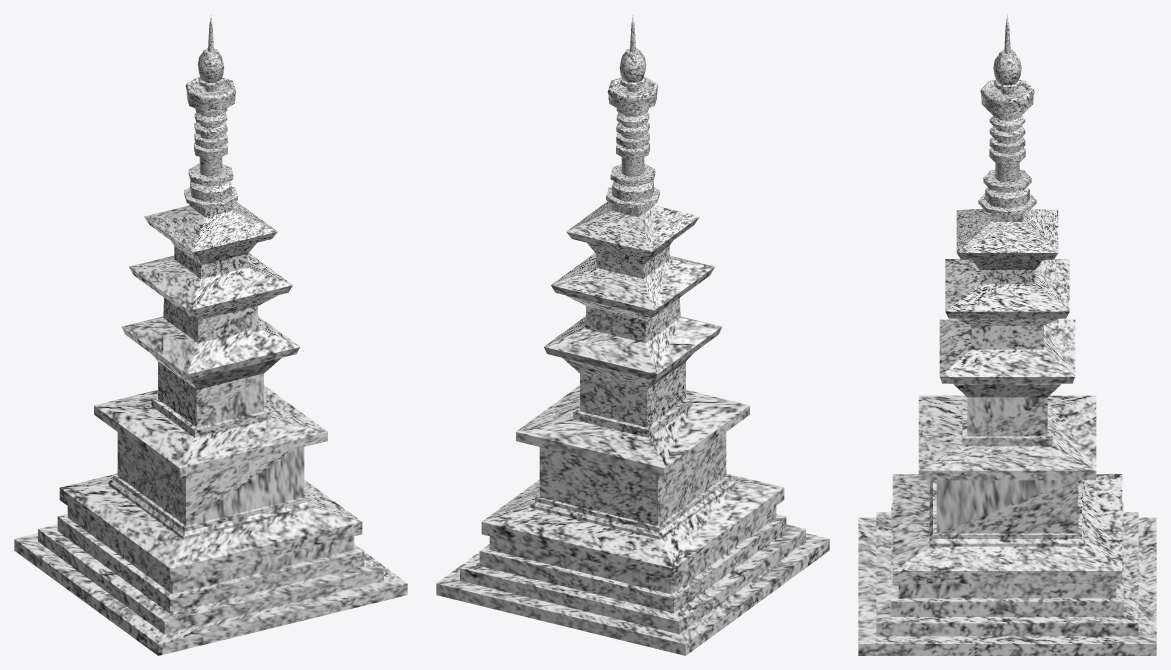
The model's file is SukGarTop.FBX.
3 views of the same model, side by side, from view 1: azimuth 30°, elevation 25°; view 2: azimuth 150°, elevation 25°; view 3: azimuth 270°, elevation 25° (orthographic). The views are drawn at different scales.
Parts seen in each view (by area): view 1: SukGarTop; view 2: SukGarTop; view 3: SukGarTop.
Boxes of the visible parts, <box> form: SukGarTop: <box>14,15,407,655</box>; SukGarTop: <box>436,15,829,655</box>; SukGarTop: <box>858,14,1156,655</box>.
Size of the model in its own units: 2.15 by 4.6 by 2.15.
1 material, 1 textured.
